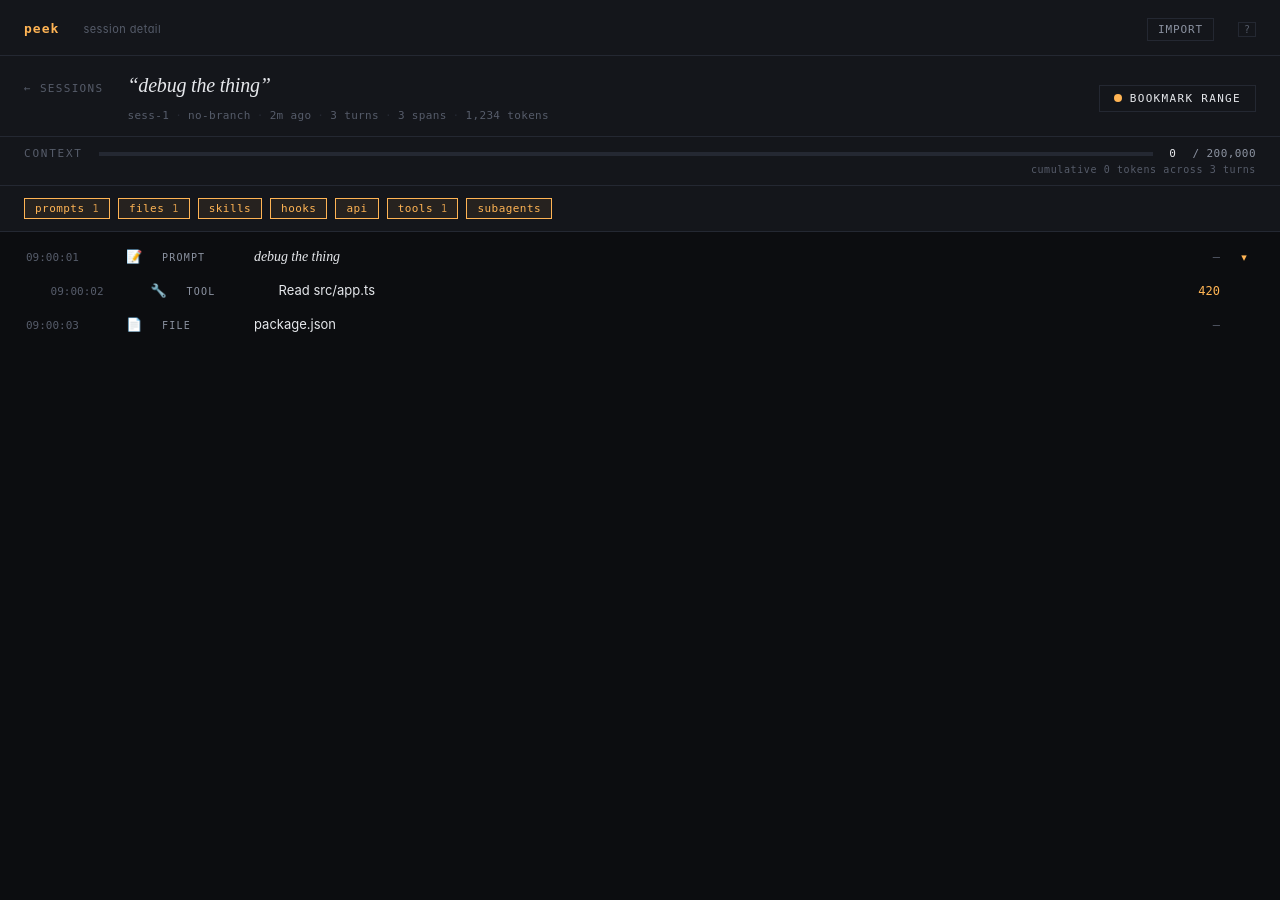
Test case: app shell › renders TimelineRow with icon, name and mono tokens for a mock event
Expected: the button with test id "cascade-toggle" is shown, [1241, 250, 1247, 264]
Expected: the 2nd button with test id "timeline-row" is shown, [0, 274, 1279, 308]
Note: Click the user row — inspector opens with the span name.
What coordinates should you click on to do the following:
click the 1st button with test id "timeline-row"
I would click on:
 (52, 258)
Its box is [0, 240, 1279, 274].
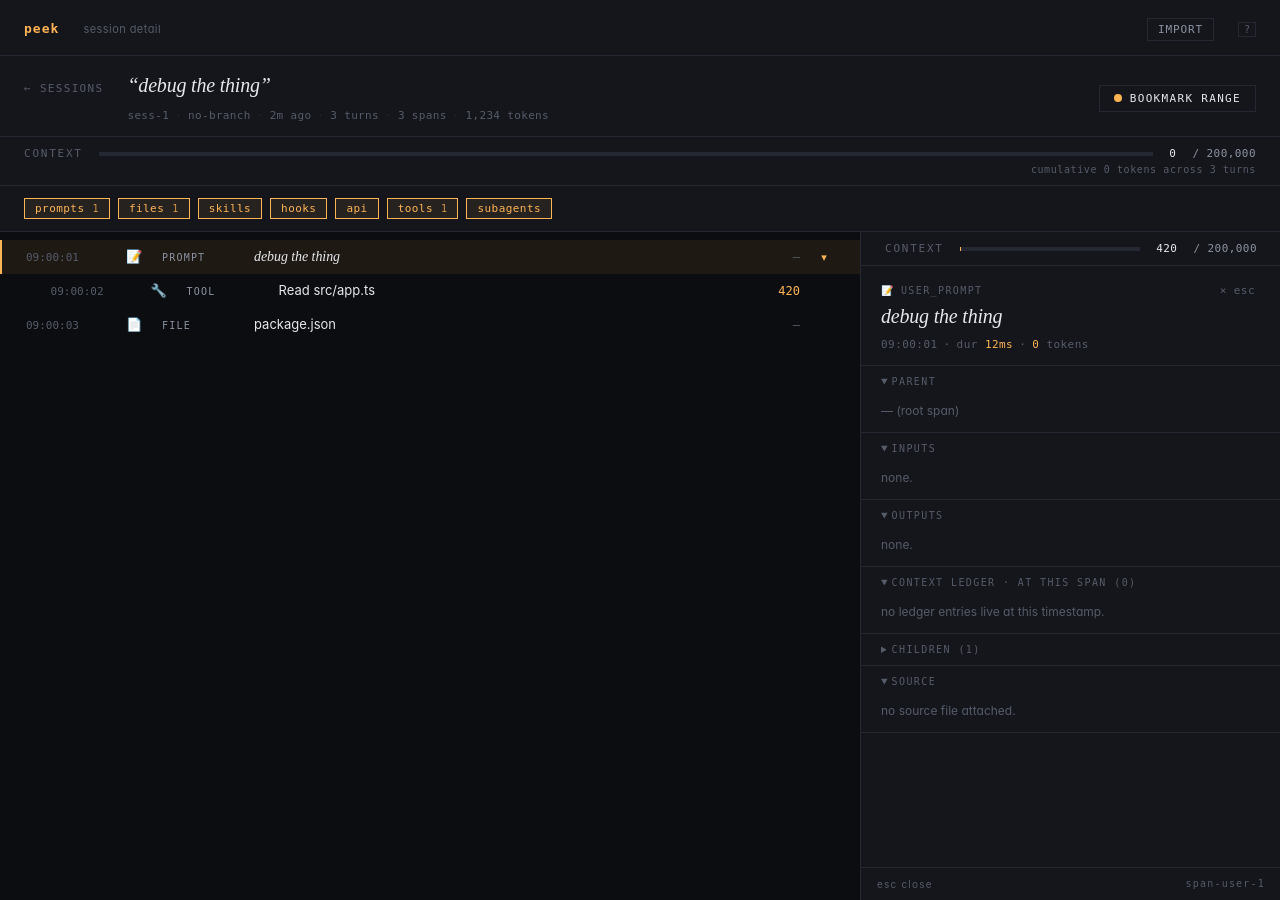
Now the text with test id "inspector-name" reads "debug the thing", box [881, 305, 1002, 327]
